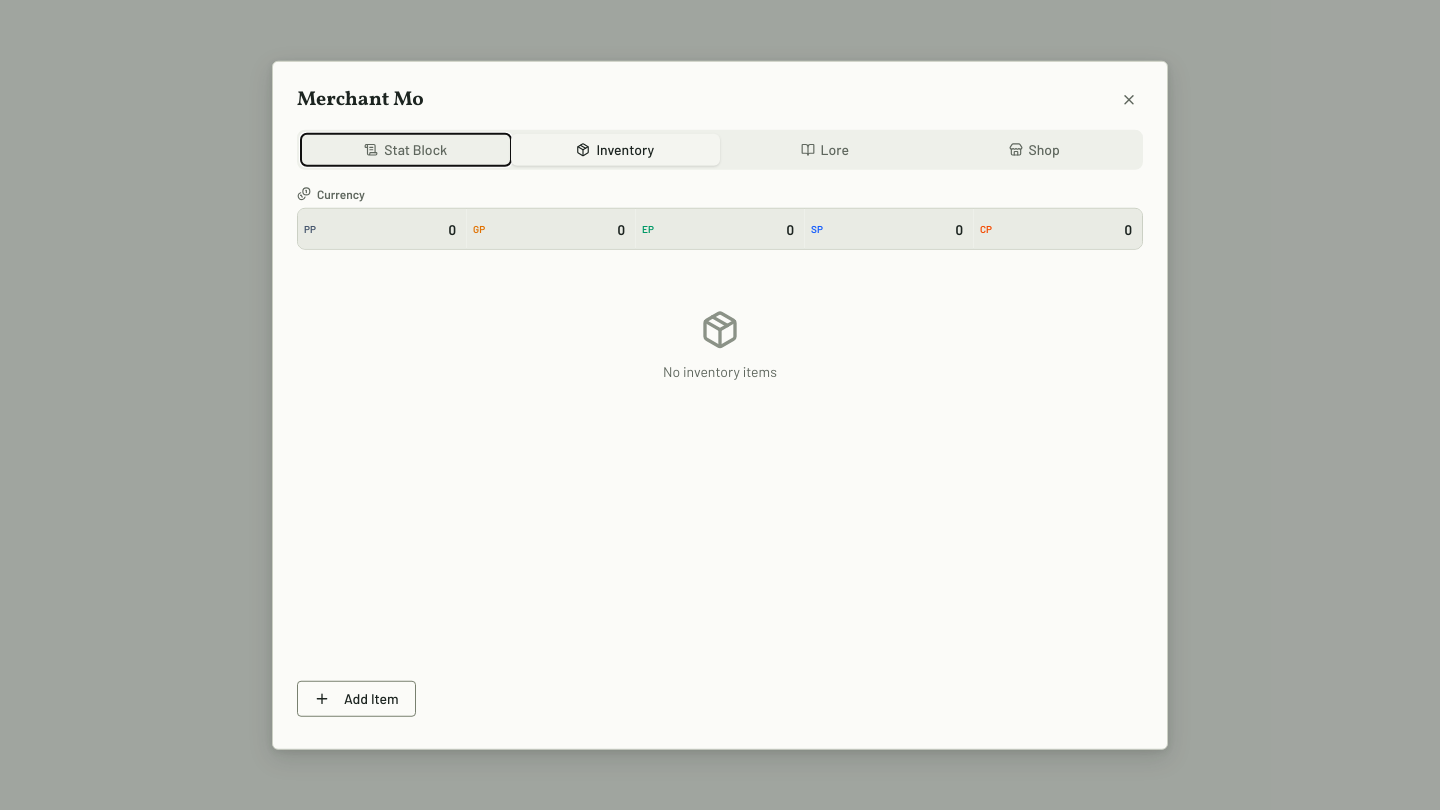
Scenario: NPCDetailDialog — Shop tab wiring › opens the shared inventory form from an NPC inventory
The image size is (1440, 810).
Click the button "Add Item": click(356, 698) x1=297 y1=680 x2=416 y2=716
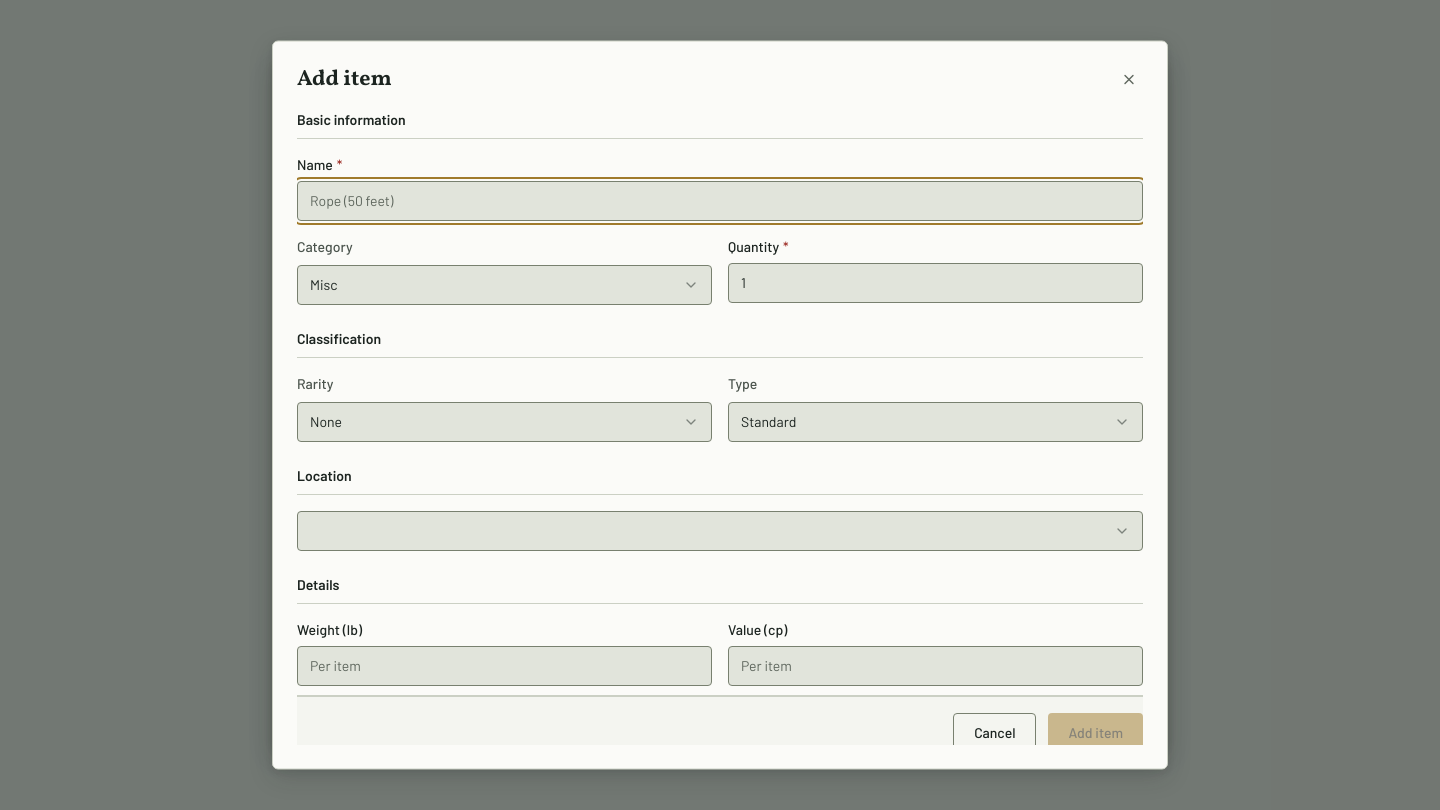
Expected: the dialog "Add item" is shown, x1=272 y1=40 x2=1168 y2=770
Expected: the heading "Basic information" is shown, x1=297 y1=109 x2=1143 y2=138
Expected: the button "Add item" is disabled, x1=1048 y1=712 x2=1143 y2=744
